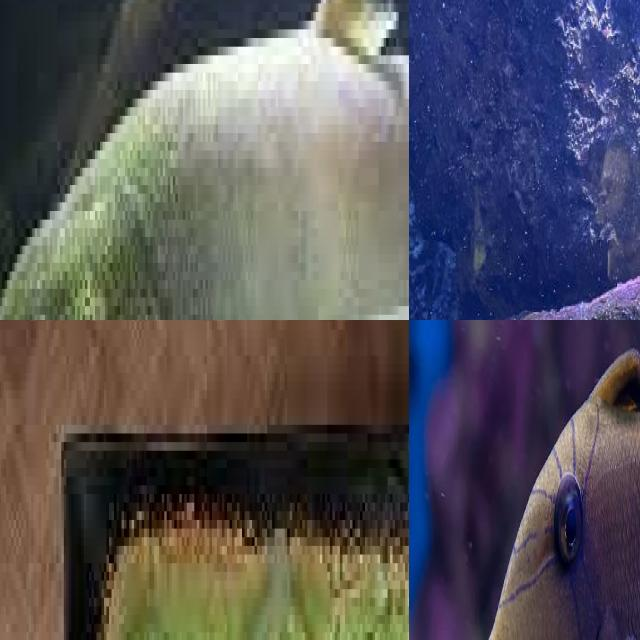fish: (0, 0, 409, 320), (66, 502, 409, 640)
